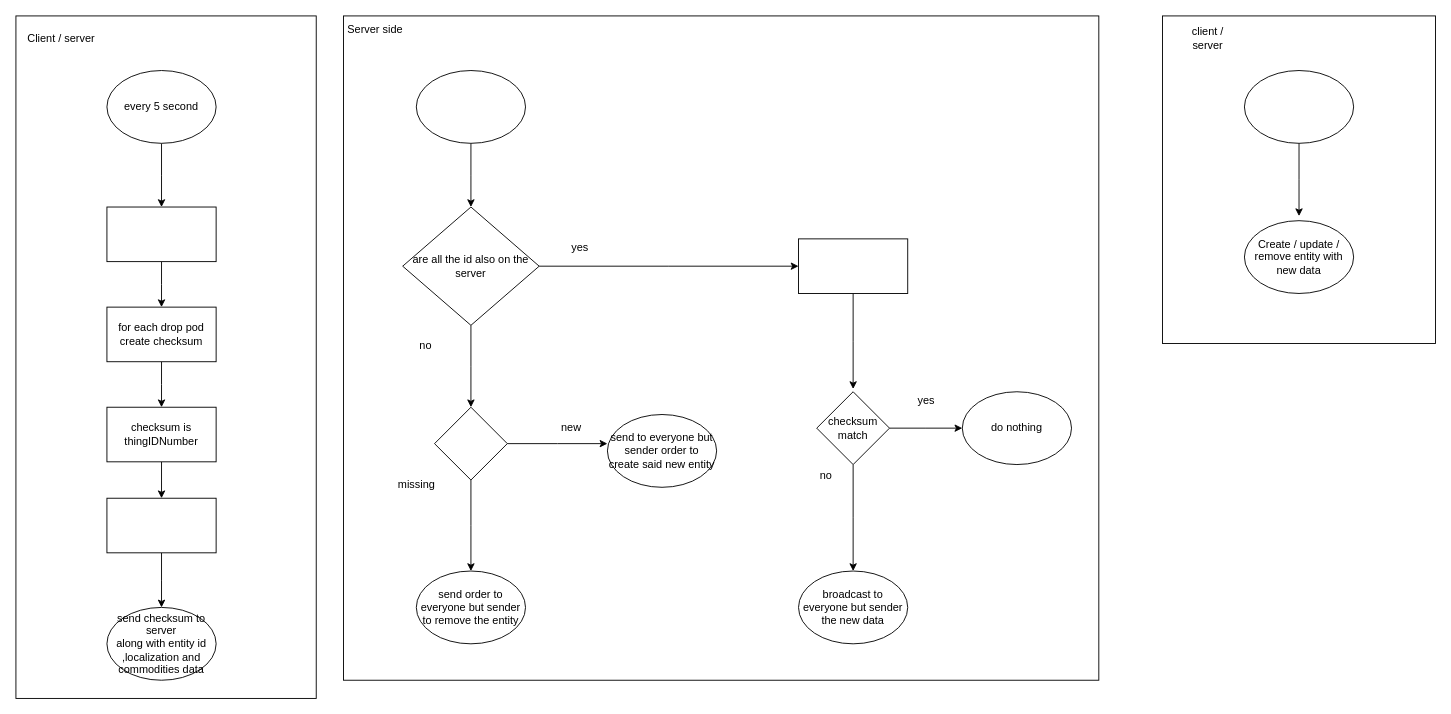
This 1451x714 diagram has some shape labels left out. The shapes that lost their labels are listed below. From the top down, each one's box as (x1, y1, x2, y2) in pixels, then its label:
(415, 70, 526, 143): Message received
(1244, 70, 1354, 143): update Request received
(106, 206, 216, 262): get all drop pods
(798, 238, 908, 293): create checksum using the same formula as client
(434, 406, 507, 480): is the id missing or new
(106, 497, 216, 553): checksum to md5
